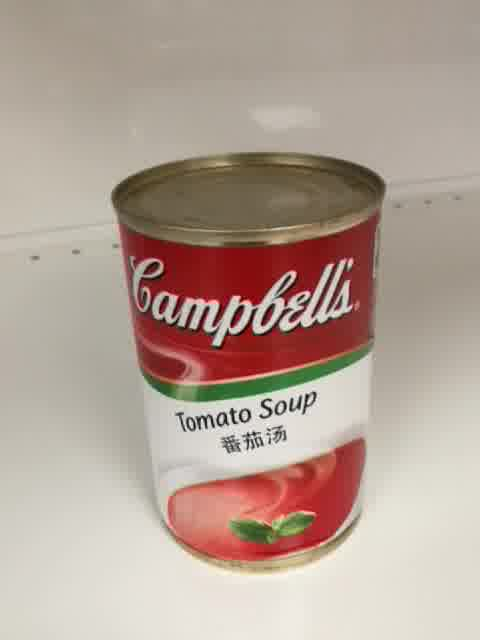tomatosoup: (109, 148, 389, 573)
